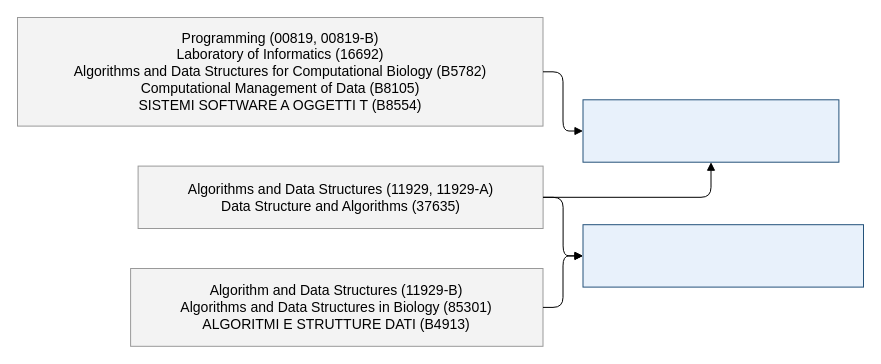
Image size: 881x364. Some labels were removed from this diagram. The centre of each missing label's shape, as x and y in pixels:
"C Data Structures and Trees 3 ECTS" belongs at point 710,130.
"Graph and Sequence Algorithms 6 ECTS" belongs at point 723,255.
